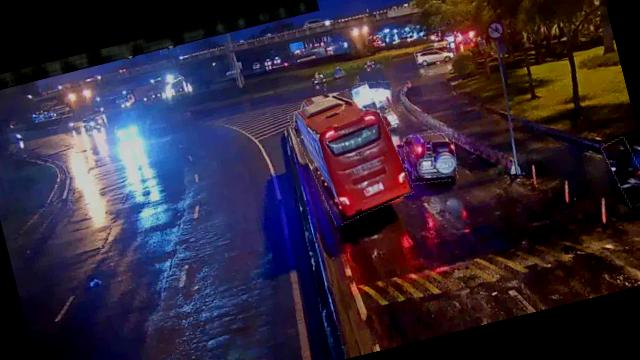Bike: (603, 135, 640, 210)
Bus: (290, 80, 413, 226)
Car: (398, 128, 462, 189), (363, 95, 401, 134), (354, 77, 394, 114), (415, 44, 447, 67)
